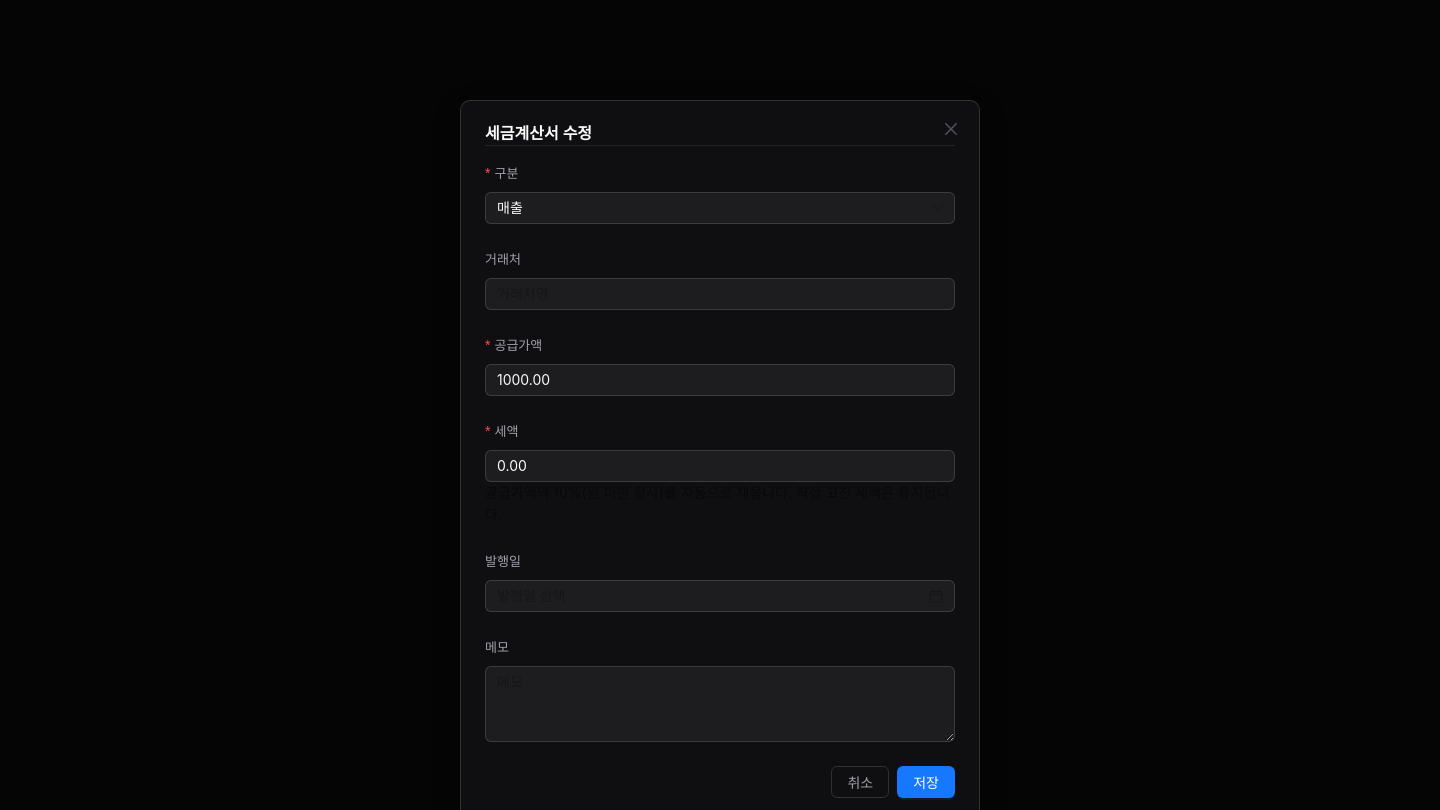
Scenario: TaxEditModal › 저장된 세액이 10%와 다르면 사용자가 정한 값으로 보고 유지한다
Replace the text in the number field with placeholder "공급가액" with "5000" at (720, 380), box [486,365,954,395]
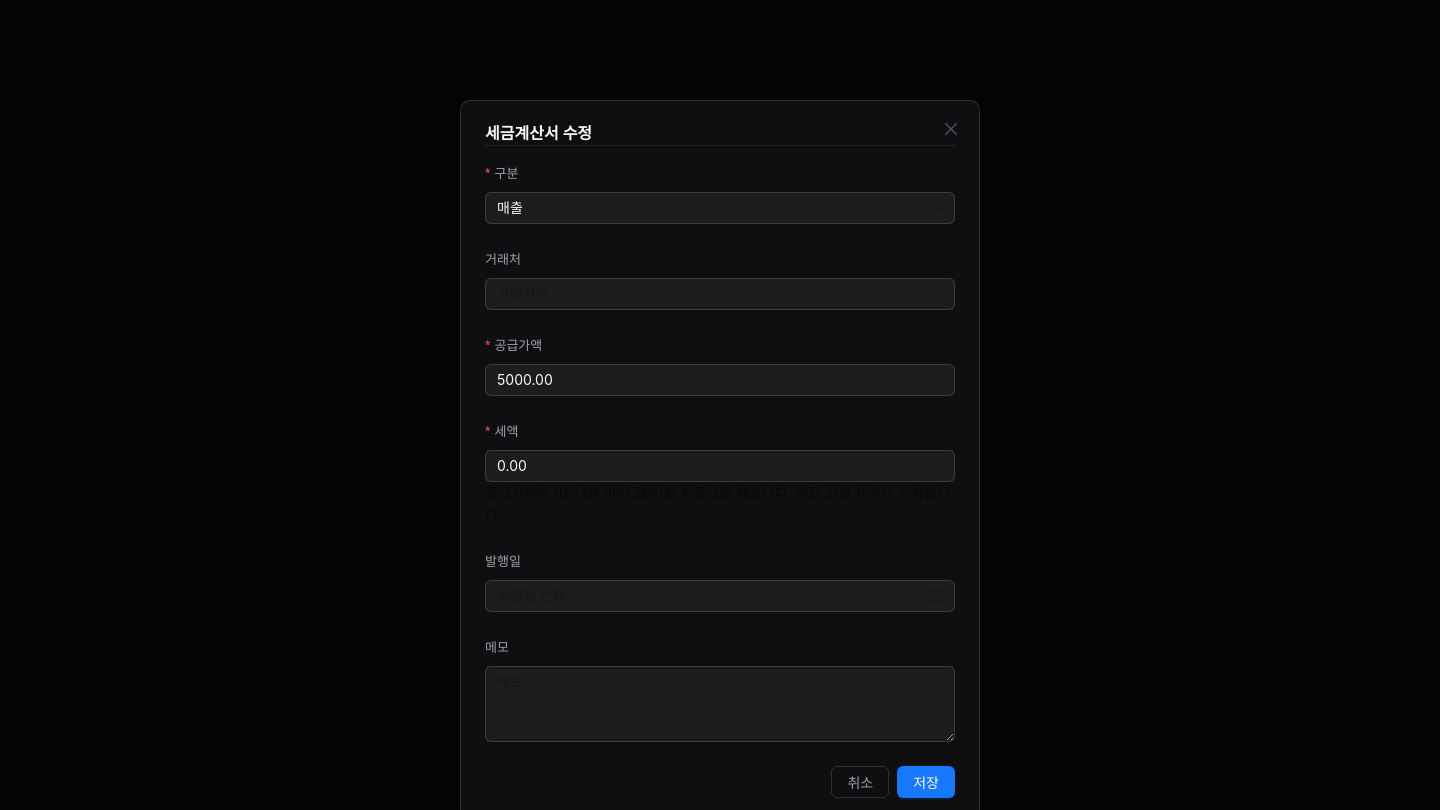
Expected: the number field with placeholder "세액" holds "0.00", [486,451,954,481]
Expected: the number field with placeholder "공급가액" holds "5000.00", [486,365,954,395]
